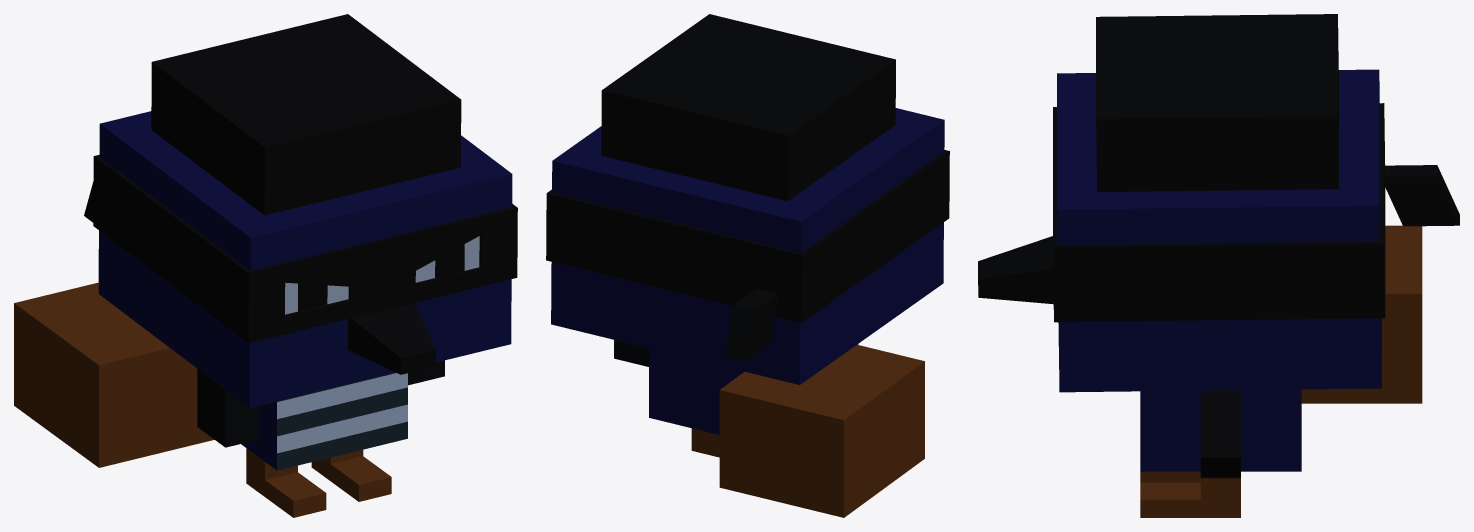
File: magpie_idle.glb
The picture shows the model from 3 angles, left to right: view 1: azimuth 30°, elevation 25°; view 2: azimuth 150°, elevation 25°; view 3: azimuth 270°, elevation 25°; orthographic projection. The views are drawn at different scales.
Parts seen in each view (by area): view 1: magpieIdle_head_MSH, magpieIdle_R_arm_MSH, magpieIdle_body_MSH, magpieIdle_R_leg_MSH, magpieIdle_L_leg_MSH; view 2: magpieIdle_head_MSH, magpieIdle_R_arm_MSH, magpieIdle_body_MSH, magpieIdle_L_arm_MSH, magpieIdle_L_leg_MSH; view 3: magpieIdle_head_MSH, magpieIdle_body_MSH, magpieIdle_R_arm_MSH, magpieIdle_L_leg_MSH, magpieIdle_L_arm_MSH, magpieIdle_R_leg_MSH.
Part boxes in pixels (<box>): magpieIdle_head_MSH: <box>84,14,517,407</box>; magpieIdle_R_arm_MSH: <box>14,282,258,467</box>; magpieIdle_body_MSH: <box>241,372,407,470</box>; magpieIdle_R_leg_MSH: <box>246,448,326,517</box>; magpieIdle_L_leg_MSH: <box>311,449,391,501</box>; magpieIdle_head_MSH: <box>546,14,949,384</box>; magpieIdle_R_arm_MSH: <box>719,344,924,517</box>; magpieIdle_body_MSH: <box>649,348,743,434</box>; magpieIdle_L_arm_MSH: <box>614,340,648,366</box>; magpieIdle_L_leg_MSH: <box>691,428,719,457</box>; magpieIdle_head_MSH: <box>978,14,1459,392</box>; magpieIdle_body_MSH: <box>1140,389,1301,471</box>; magpieIdle_R_arm_MSH: <box>1301,225,1422,403</box>; magpieIdle_L_leg_MSH: <box>1140,478,1240,517</box>; magpieIdle_L_arm_MSH: <box>1200,390,1240,478</box>; magpieIdle_R_leg_MSH: <box>1140,471,1200,482</box>.
Bounding box in the file's own units: 1 × 0.9747 × 0.996.
